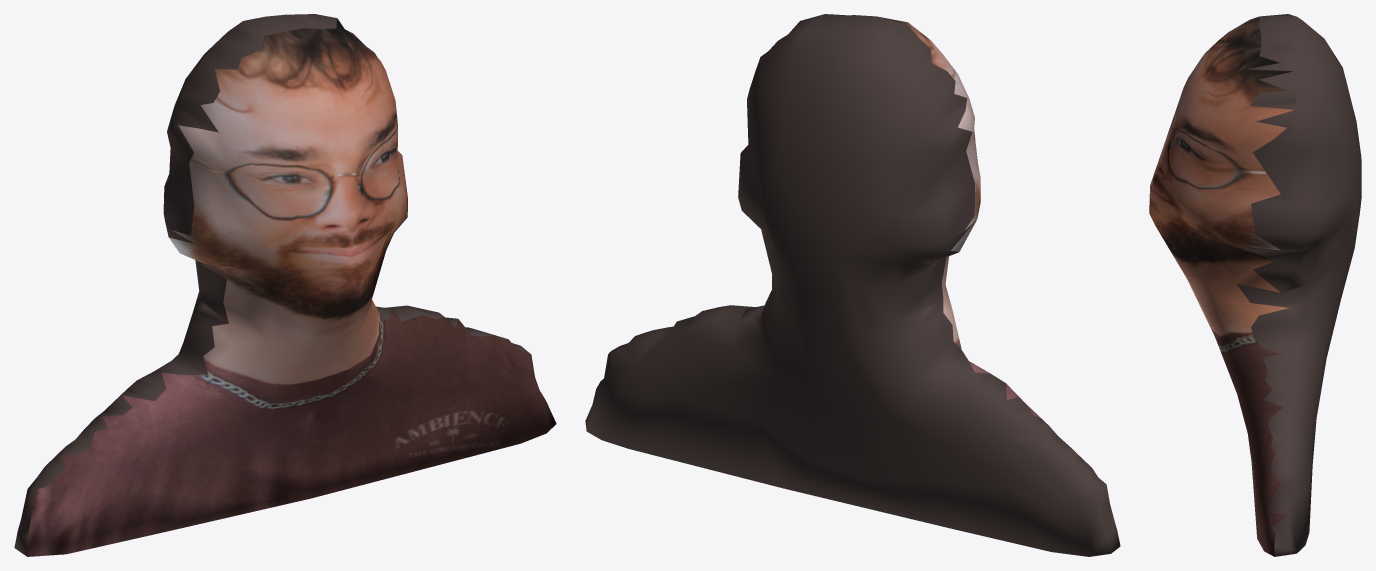
File: bust.obj
3 renders of one model, left to right at view 1: azimuth 30°, elevation 25°; view 2: azimuth 150°, elevation 25°; view 3: azimuth 270°, elevation 25°, orthographic. The views are drawn at different scales.
Parts seen in each view (by area): view 1: bust; view 2: bust; view 3: bust.
Boxes of the visible parts, x1,y1,x2,y2 form: bust: (14, 14, 556, 556); bust: (585, 14, 1120, 556); bust: (1149, 14, 1361, 556).
Bounding box in the file's own units: 0.463 × 0.3884 × 0.1812.
Materials: 2 (1 with a texture image).
